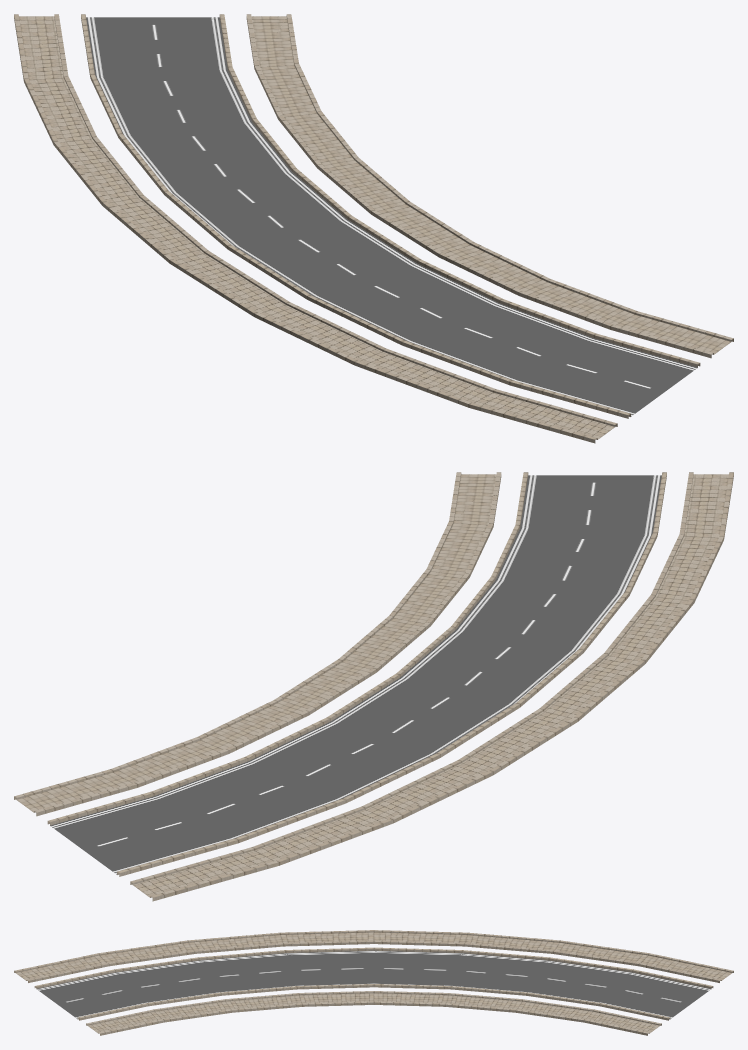
The model's file is Street1LaneTurn60Deg.FBX.
The picture shows the model from 3 angles, top to bottom: view 1: azimuth 30°, elevation 25°; view 2: azimuth 150°, elevation 25°; view 3: azimuth 270°, elevation 25°; orthographic projection. The views are drawn at different scales.
Parts seen in each view (by area): view 1: Street1LaneTurn60Deg; view 2: Street1LaneTurn60Deg; view 3: Street1LaneTurn60Deg.
Part boxes in pixels (x1,y1,x2,y2): Street1LaneTurn60Deg: [14, 14, 733, 443]; Street1LaneTurn60Deg: [14, 472, 733, 901]; Street1LaneTurn60Deg: [14, 930, 733, 1035].
Bounding box in the file's own units: 29.55 × 0.3 × 86.74.
Materials: 2 (2 with a texture image).
